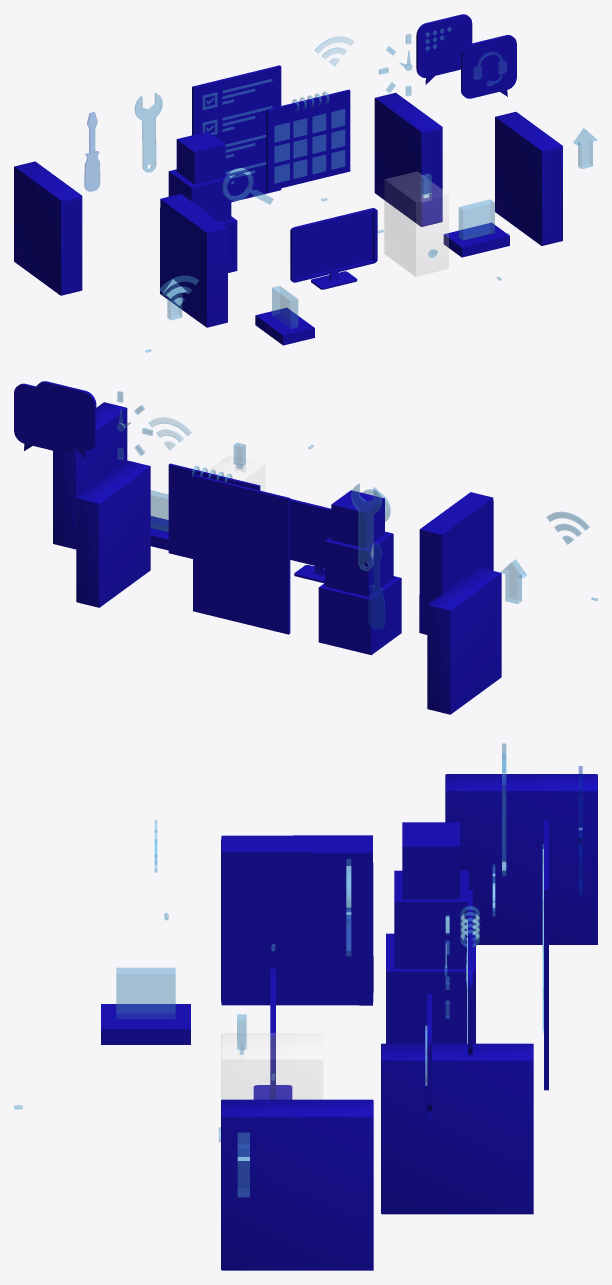
The model's file is saperated.glb.
The picture shows the model from 3 angles, top to bottom: view 1: azimuth 30°, elevation 25°; view 2: azimuth 150°, elevation 25°; view 3: azimuth 270°, elevation 25°; orthographic projection. The views are drawn at different scales.
Visible parts, largest first — view 1: Cube.086, Cube.087, Cube.009, Cube.005, Cube.085, Cube.010, box, Cube.024, Cube.014, Cube.013, Cube.008, Cube.007 (+14 smaller); view 2: Cube.009, Cube.087, Cube.086, Cube.085, Cube.005, Cube.006, Cube.013, Cube.007, Cube.010, Cube.008, Cube.024, Cube.014 (+9 smaller); view 3: Cube.005, Cube.087, Cube.085, Cube.086, box, Cube.006, Cube.007, Cube.008, Cube.021, Cube.022, Cube.009, Cube.110 (+1 smaller).
Part boxes in pixels (x1,y1,x2,y2): Cube.086: (14,161,82,295); Cube.087: (374,92,442,226); Cube.009: (192,65,281,202); Cube.005: (495,112,562,245); Cube.085: (160,194,227,327); Cube.010: (266,89,350,191); box: (384,172,448,276); Cube.024: (290,208,377,282); Cube.014: (461,35,516,98); Cube.013: (416,14,472,84); Cube.008: (176,131,225,184); Cube.007: (168,169,231,222); Cube.009: (193,474,290,634); Cube.087: (76,460,150,607); Cube.086: (427,567,501,714); Cube.085: (419,492,493,634); Cube.005: (53,402,127,549); Cube.006: (318,576,401,655); Cube.013: (35,381,96,458); Cube.007: (325,531,393,596); Cube.010: (168,463,260,558); Cube.008: (331,490,384,547); Cube.024: (290,498,331,568); Cube.014: (14,383,73,453); Cube.005: (221,1099,373,1270); Cube.087: (381,1043,533,1214); Cube.085: (221,835,373,1005); Cube.086: (445,774,597,944); box: (221,1033,322,1099); Cube.006: (386,933,475,1043); Cube.007: (394,870,468,968); Cube.008: (402,822,460,899); Cube.021: (101,1004,190,1044); Cube.022: (116,967,175,1018); Cube.009: (544,820,548,1090); Cube.110: (237,1132,249,1197).
Size of what is drawn, in the model's own units: 17.32 by 6.2 by 11.41.
